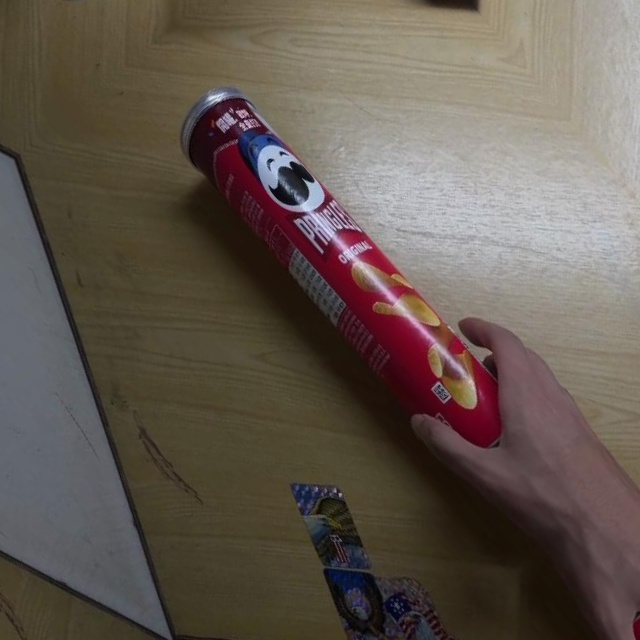Pringles: (159, 67, 528, 481)
